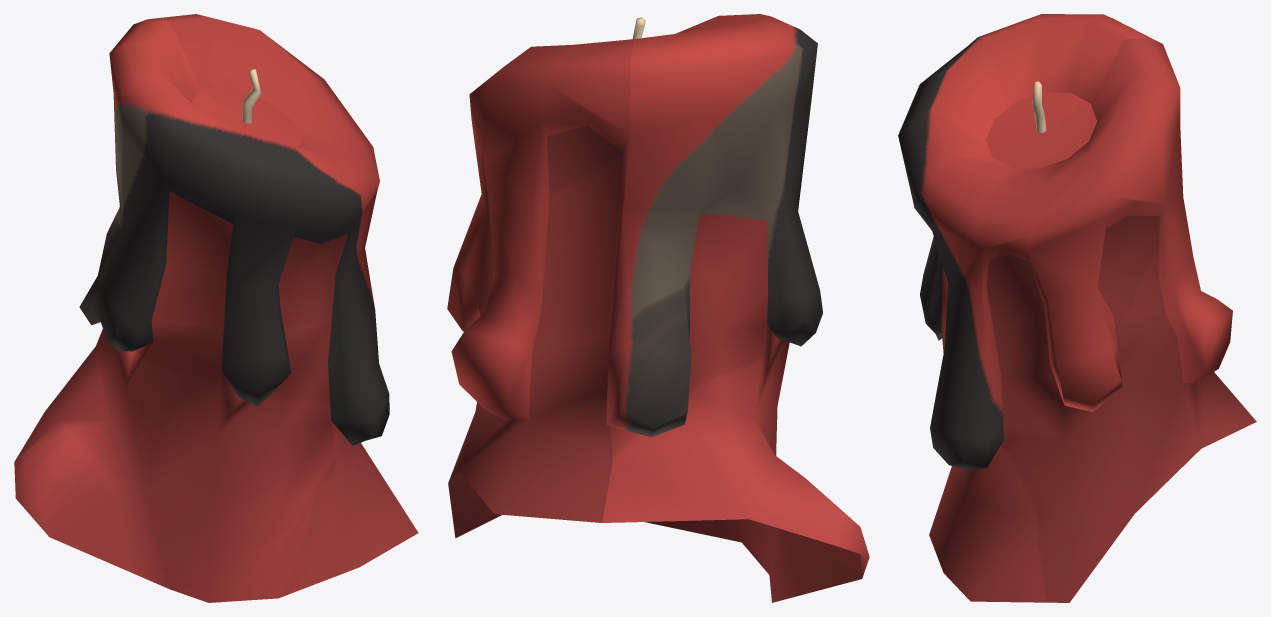
File: 308_candle001_MD.fbx
3 views of the same model, side by side, from view 1: azimuth 30°, elevation 25°; view 2: azimuth 150°, elevation 25°; view 3: azimuth 270°, elevation 25° (orthographic). The views are drawn at different scales.
Visible parts, largest first — view 1: Object005; view 2: Object005; view 3: Object005.
Boxes of the visible parts, <box> form: Object005: <box>14,14,418,602</box>; Object005: <box>447,14,869,602</box>; Object005: <box>898,14,1256,602</box>.
Size of the model in its own units: 7.07 by 9.71 by 6.3.
Materials: 1 (1 with a texture image).
